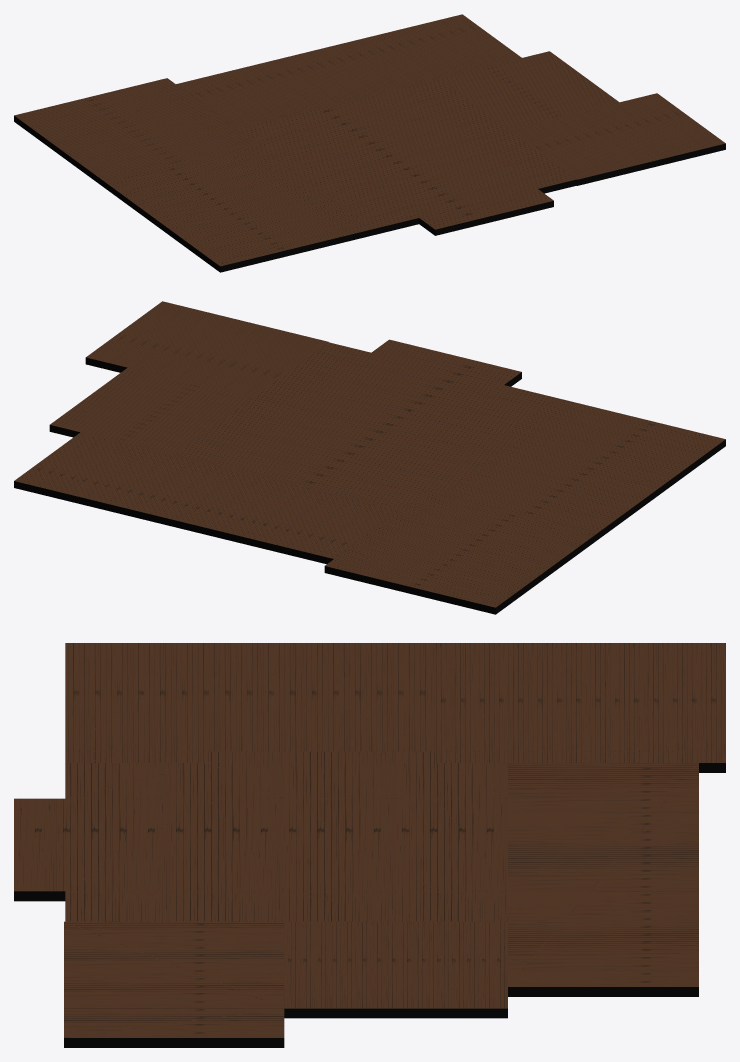
Rendered from Level3_Floors.fbx.
The picture shows the model from 3 angles, top to bottom: view 1: azimuth 30°, elevation 25°; view 2: azimuth 150°, elevation 25°; view 3: azimuth 270°, elevation 25°; orthographic projection. The views are drawn at different scales.
Visible parts, largest first — view 1: lv3_r2_floor.002, lv3_r1_floor.001, lv3_r5_floor.004, lv3_r6_floor.003, lv3_r4_floor.006, lv3_r3_floor.005; view 2: lv3_r2_floor.002, lv3_r5_floor.004, lv3_r1_floor.001, lv3_r6_floor.003, lv3_r4_floor.006, lv3_r3_floor.005; view 3: lv3_r2_floor.002, lv3_r5_floor.004, lv3_r1_floor.001, lv3_r6_floor.003, lv3_r4_floor.006, lv3_r3_floor.005.
Boxes of the visible parts, x1=… form: lv3_r2_floor.002: x1=236, y1=78, x2=576, y2=235; lv3_r1_floor.001: x1=104, y1=147, x2=373, y2=272; lv3_r5_floor.004: x1=176, y1=14, x2=521, y2=127; lv3_r6_floor.003: x1=14, y1=78, x2=257, y2=187; lv3_r4_floor.006: x1=508, y1=93, x2=725, y2=185; lv3_r3_floor.005: x1=439, y1=51, x2=618, y2=129; lv3_r2_floor.002: x1=174, y1=339, x2=554, y2=510; lv3_r5_floor.004: x1=14, y1=432, x2=399, y2=564; lv3_r1_floor.001: x1=442, y1=397, x2=725, y2=540; lv3_r6_floor.003: x1=324, y1=492, x2=596, y2=614; lv3_r4_floor.006: x1=85, y1=301, x2=328, y2=397; lv3_r3_floor.005: x1=49, y1=368, x2=251, y2=454; lv3_r2_floor.002: x1=14, y1=751, x2=507, y2=921; lv3_r5_floor.004: x1=508, y1=763, x2=698, y2=996; lv3_r1_floor.001: x1=65, y1=643, x2=436, y2=762; lv3_r6_floor.003: x1=436, y1=643, x2=725, y2=772; lv3_r4_floor.006: x1=64, y1=921, x2=284, y2=1047; lv3_r3_floor.005: x1=284, y1=921, x2=507, y2=1018.
Size of the model in its own units: 19.4 by 25.46 by 0.3.
Materials: 2 (1 with a texture image).
